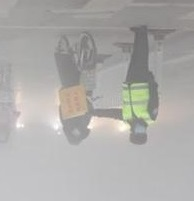person: (91, 25, 161, 148), (50, 46, 94, 148), (1, 63, 21, 144)
